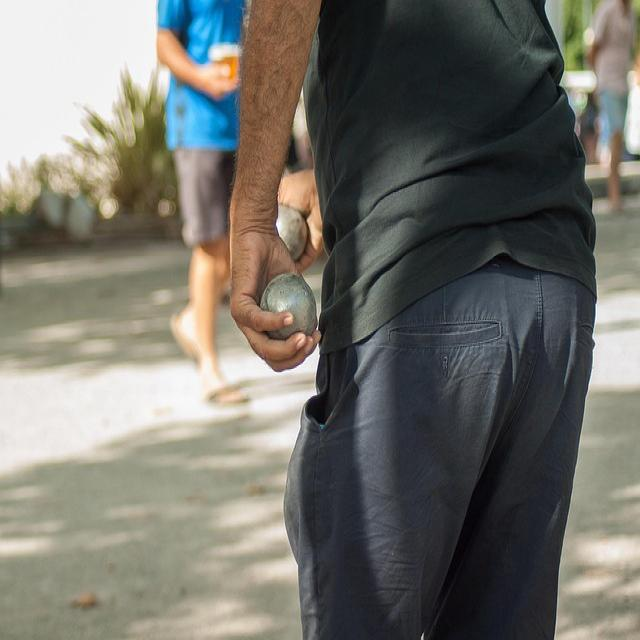petanque: (257, 269, 321, 343), (272, 199, 311, 257)
